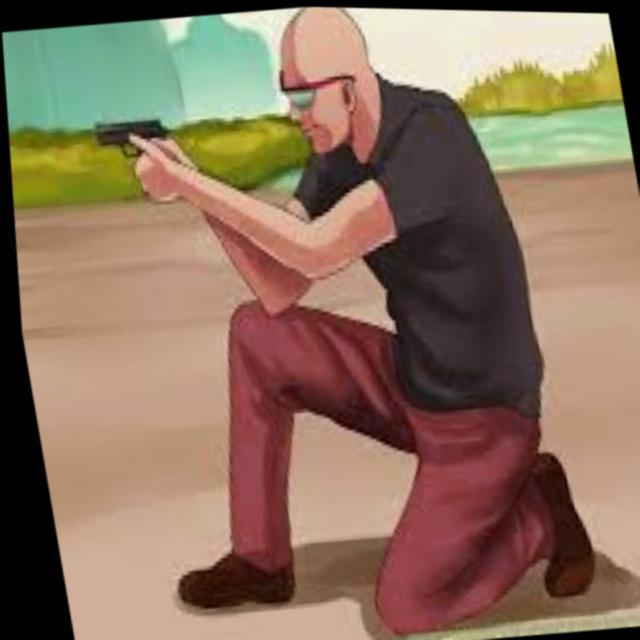weapon: (90, 110, 172, 168)
